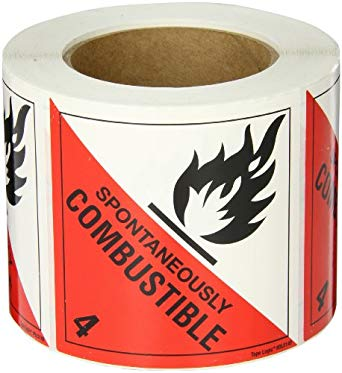SpontaneouslyCombustible: (50, 96, 302, 368)
